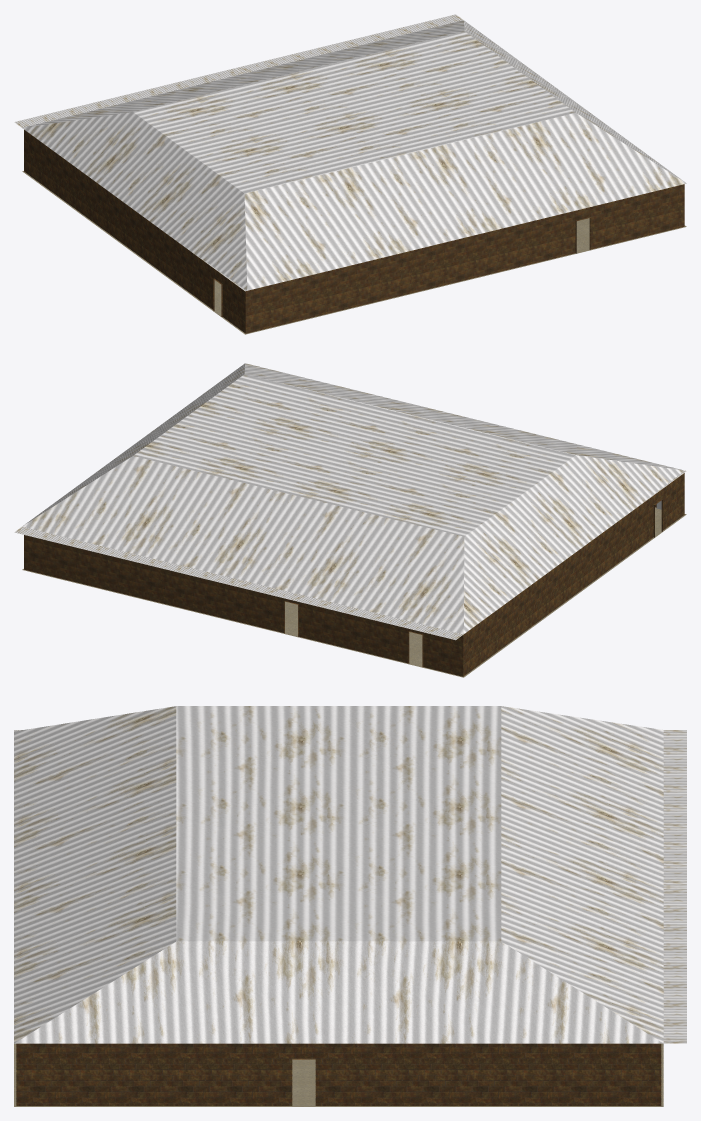
File: commons.glb
The picture shows the model from 3 angles, top to bottom: view 1: azimuth 30°, elevation 25°; view 2: azimuth 150°, elevation 25°; view 3: azimuth 270°, elevation 25°; orthographic projection. The views are drawn at different scales.
Visible parts, largest first — view 1: Commons, Walls, Roof, Floor; view 2: Commons, Walls, Roof, Floor; view 3: Commons, Walls, Roof, Floor.
Part boxes in pixels (<box>): Commons: <box>22,20,686,290</box>; Walls: <box>24,129,684,333</box>; Roof: <box>14,14,463,291</box>; Floor: <box>22,171,686,334</box>; Commons: <box>22,363,684,634</box>; Walls: <box>24,473,684,676</box>; Roof: <box>14,470,686,640</box>; Floor: <box>22,507,686,677</box>; Commons: <box>14,706,663,1043</box>; Walls: <box>16,1043,661,1105</box>; Roof: <box>14,730,686,1043</box>; Floor: <box>14,1043,663,1106</box>.
Size of what is drawn, in the model's own units: 32 by 6 by 29.
Materials: 4 (3 with a texture image).
